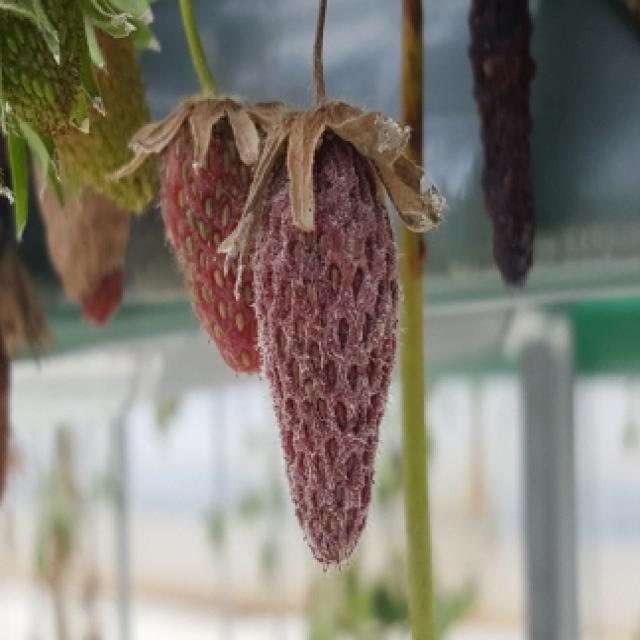Powdery Mildew Fruit: (231, 112, 403, 568), (128, 96, 280, 378)
